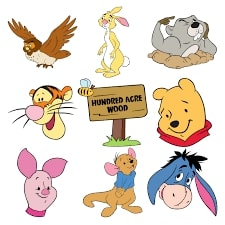Winnie: (149, 75, 213, 148)
